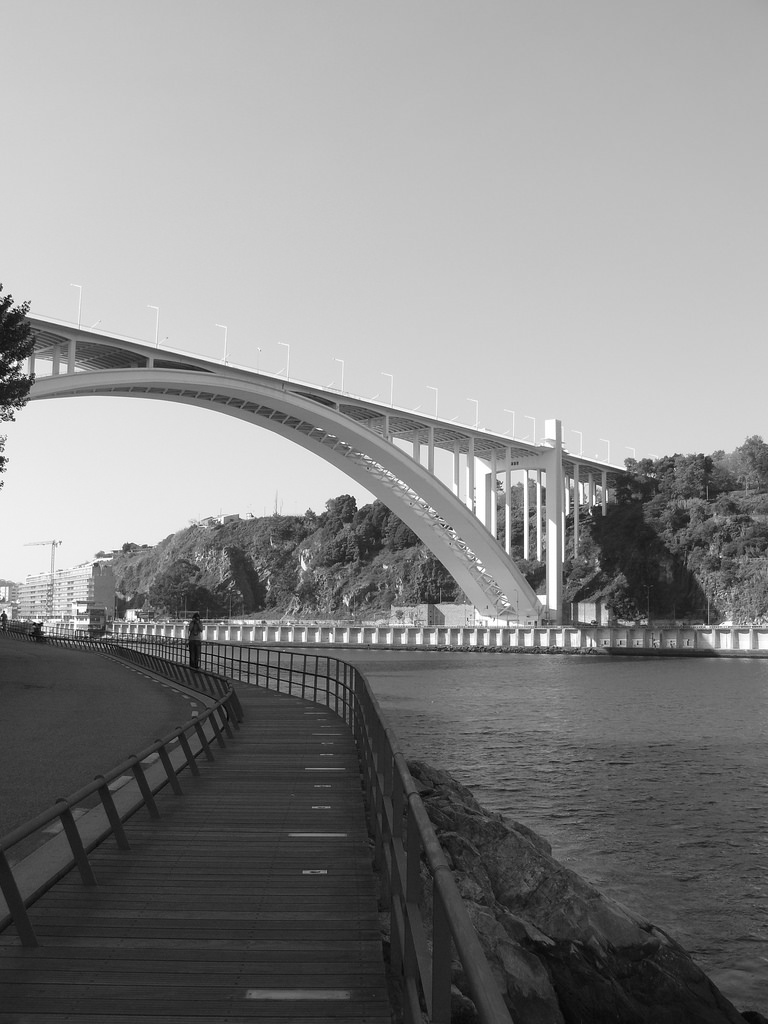arrabida: (0, 307, 628, 629)
